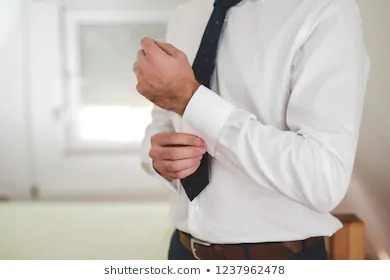F_belt: (164, 224, 335, 259)
F_shirt: (134, 1, 368, 237)
F_tie: (180, 1, 237, 207)
